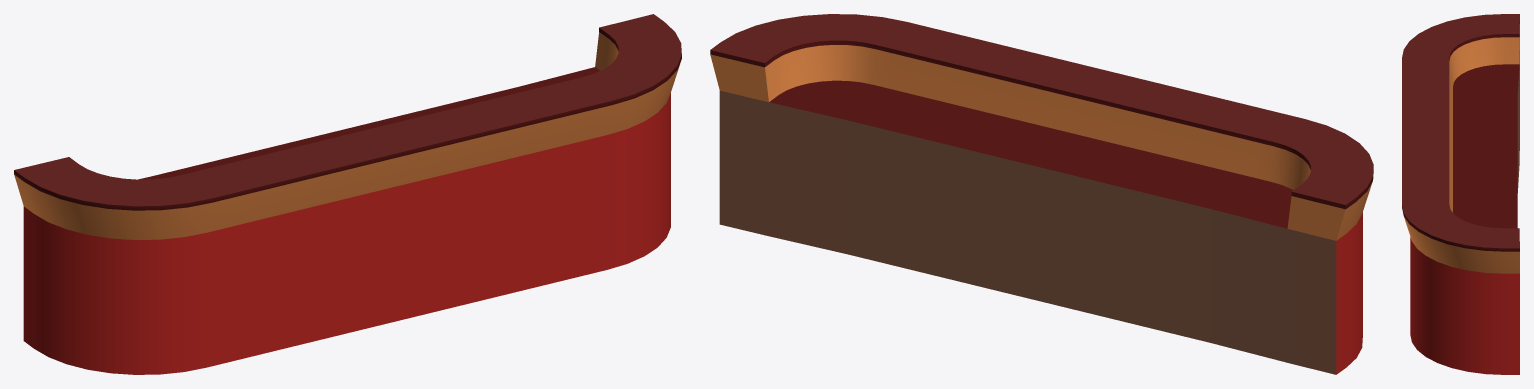
File: bar.fbx
3 renders of one model, left to right at view 1: azimuth 30°, elevation 25°; view 2: azimuth 150°, elevation 25°; view 3: azimuth 270°, elevation 25°, orthographic. The views are drawn at different scales.
Parts seen in each view (by area): view 1: bar; view 2: bar; view 3: bar.
Boxes of the visible parts, bbox=[...] form: bar: bbox=[14, 14, 681, 374]; bar: bbox=[710, 14, 1373, 374]; bar: bbox=[1402, 14, 1519, 374].
Size of the model in its own units: 12.98 by 3.36 by 2.76.
